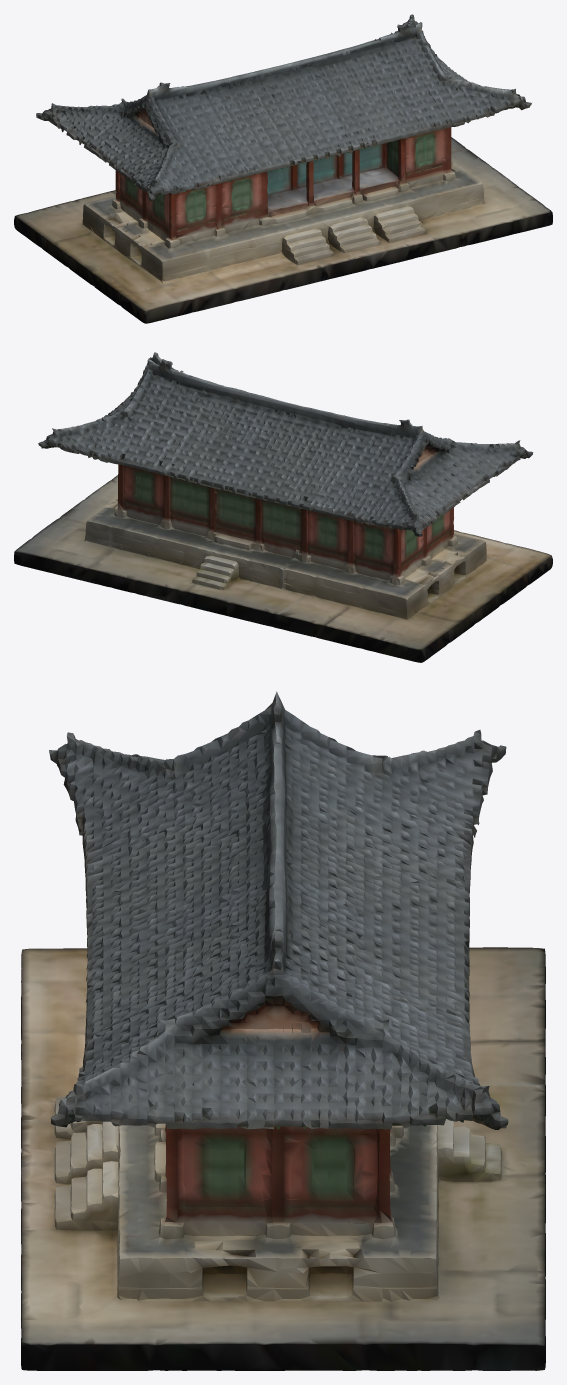
The model's file is bihyeongak.glb.
The picture shows the model from 3 angles, top to bottom: view 1: azimuth 30°, elevation 25°; view 2: azimuth 150°, elevation 25°; view 3: azimuth 270°, elevation 25°; orthographic projection. The views are drawn at different scales.
Size of the model in its own units: 1.04 by 0.4254 by 0.5769.
